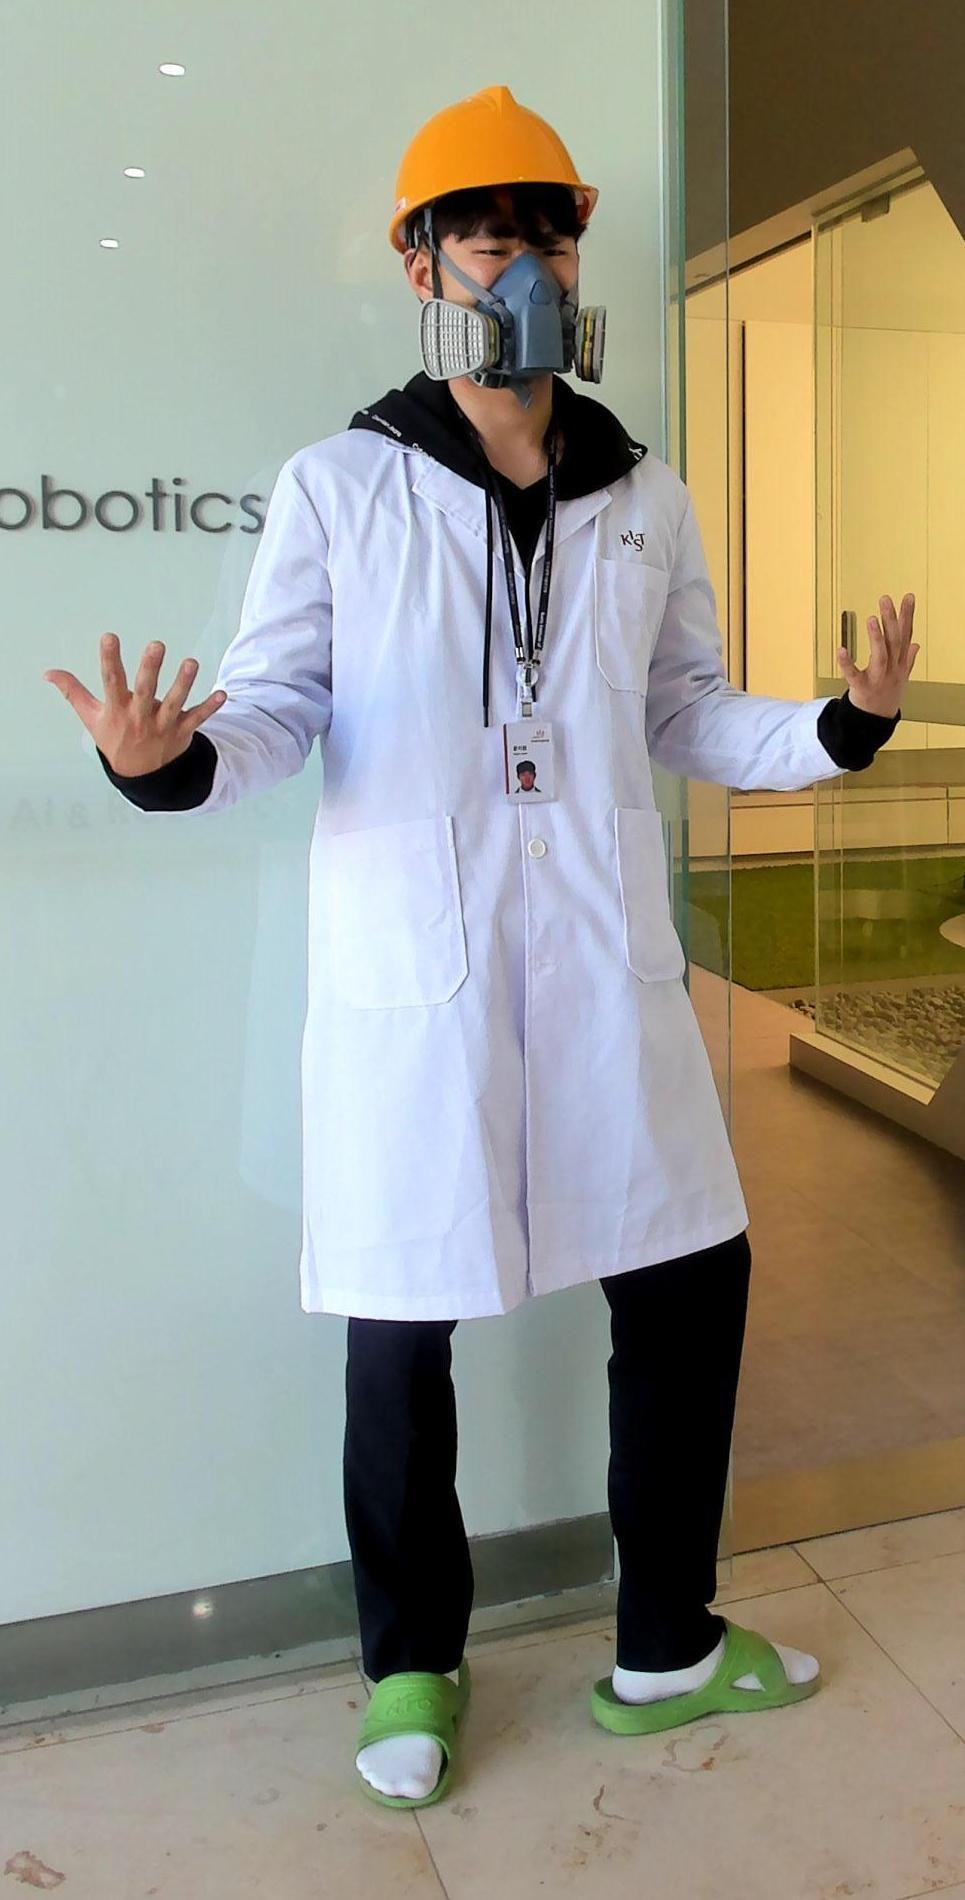lab_coat: (255, 470, 751, 1279)
